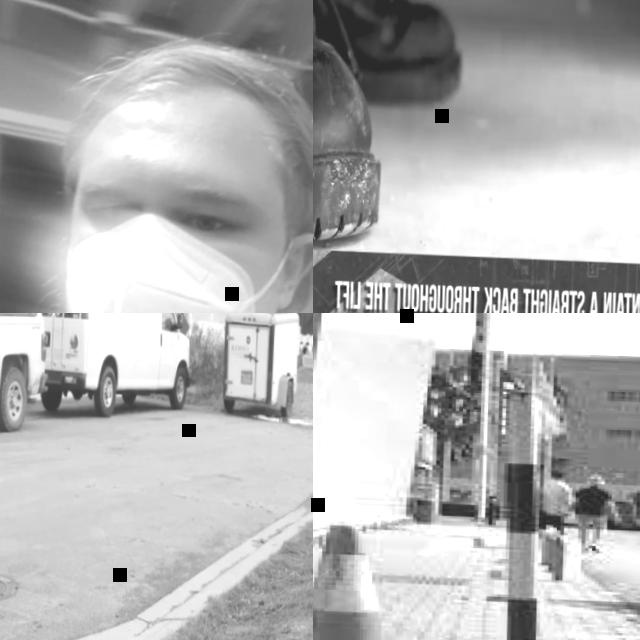NO-Hardhat: (71, 33, 313, 158), (588, 473, 604, 484), (551, 469, 565, 478)
NO-Mask: (62, 217, 300, 313)
NO-Safety Vest: (540, 481, 568, 513), (575, 489, 607, 516)
Person: (0, 19, 313, 313), (313, 0, 640, 256), (571, 471, 615, 553), (538, 470, 575, 537)
Safety Cone: (313, 517, 460, 640)
vehicle: (28, 313, 195, 422)
